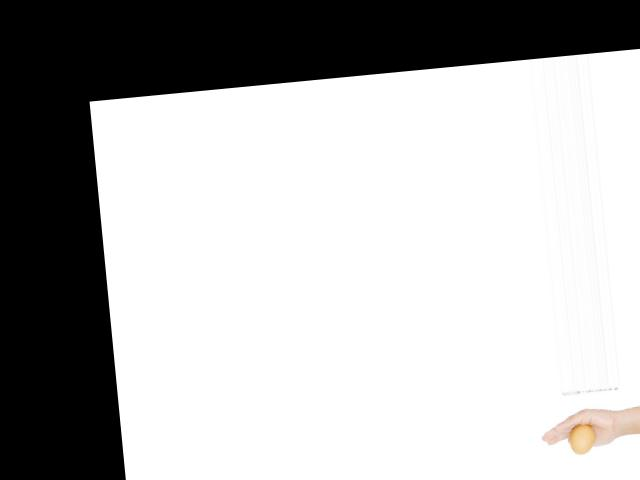egg: (567, 422, 596, 455)
